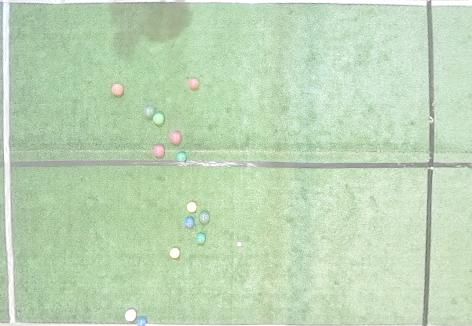blue: (184, 217, 194, 228), (137, 316, 149, 325)
green: (144, 105, 156, 118), (199, 211, 210, 224), (153, 113, 164, 125), (176, 152, 187, 163), (196, 233, 206, 244)
red: (170, 131, 182, 145), (112, 84, 124, 96), (153, 145, 165, 157), (188, 78, 199, 90), (125, 309, 136, 321)
vline: (422, 1, 472, 325), (0, 1, 21, 325)
white: (237, 242, 242, 247)
yellow: (170, 247, 180, 258), (187, 202, 197, 212)
